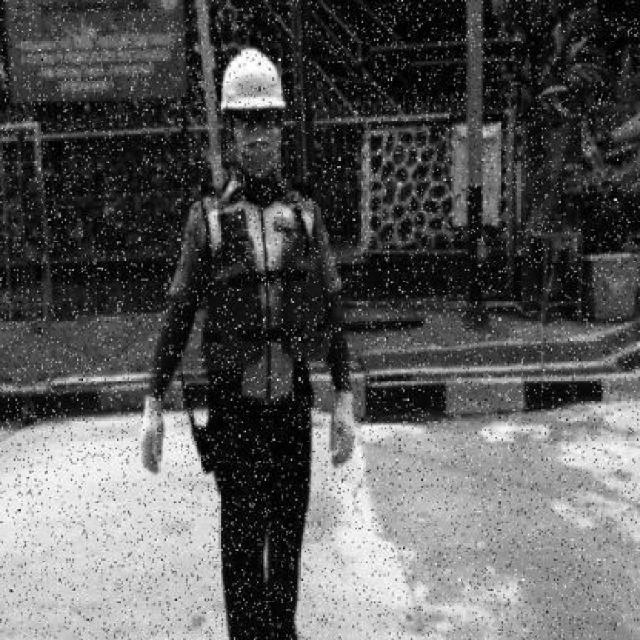Gloves: (326, 382, 362, 469), (137, 388, 168, 480)
Helmet: (217, 48, 289, 110)
Mask: (231, 127, 284, 179)
Protective Glasses: (229, 105, 282, 132)
Vest: (200, 238, 337, 378)
